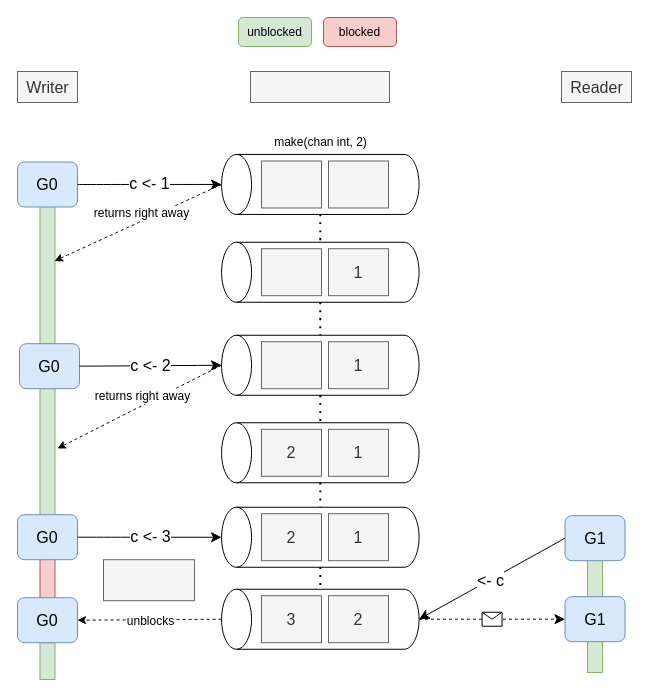
Image size: 649x697. Some labels were removed from this diagram. Each missing label, with the centre of its shape:
"Blocks as channel is full" goes at point (148, 580).
"Buffered channel" goes at point (320, 86).
